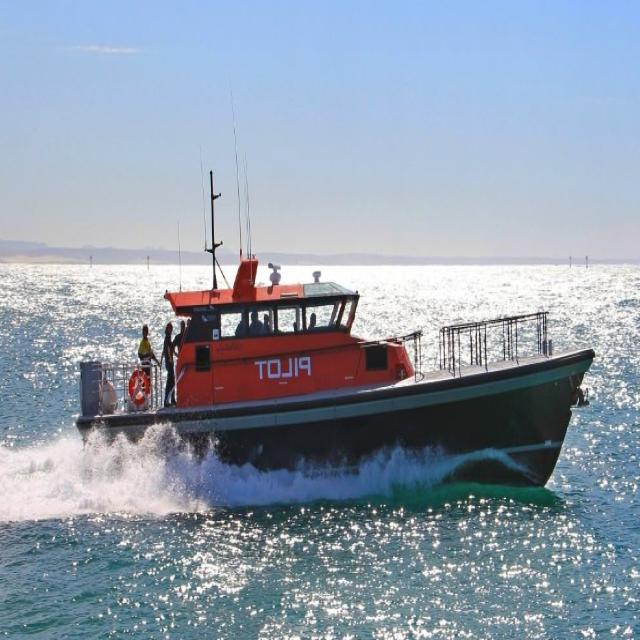houseboat: (76, 230, 602, 514)
